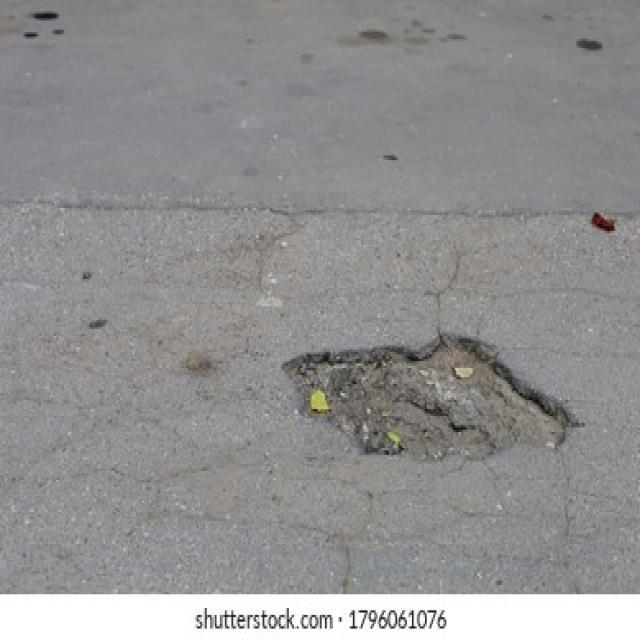Pothole: (278, 331, 580, 464)
